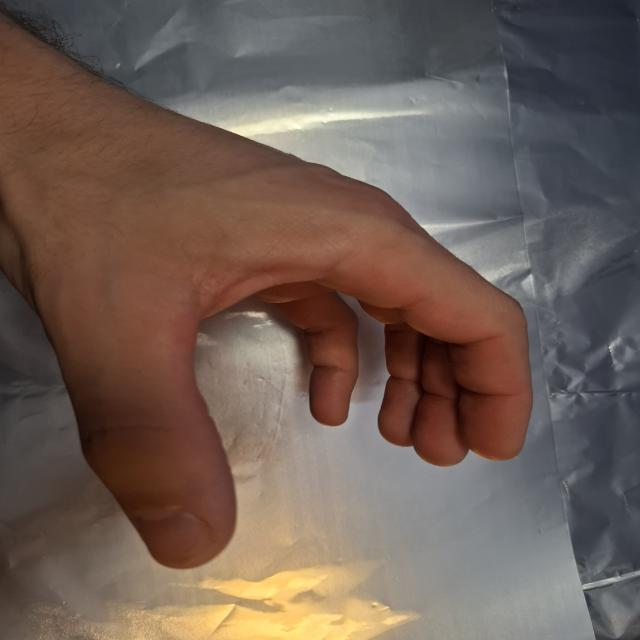glove_off: (0, 114, 537, 572)
